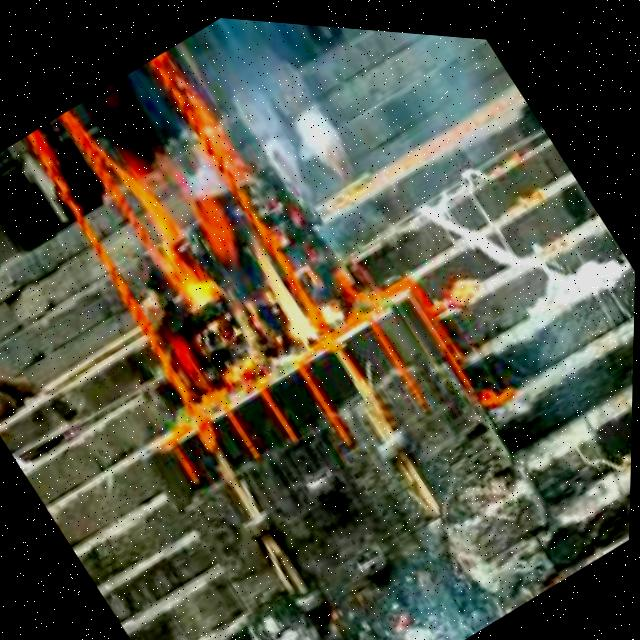Fire: (89, 103, 339, 401)
